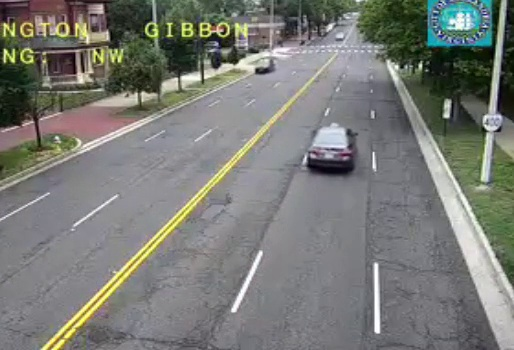car: (307, 126, 354, 168)
